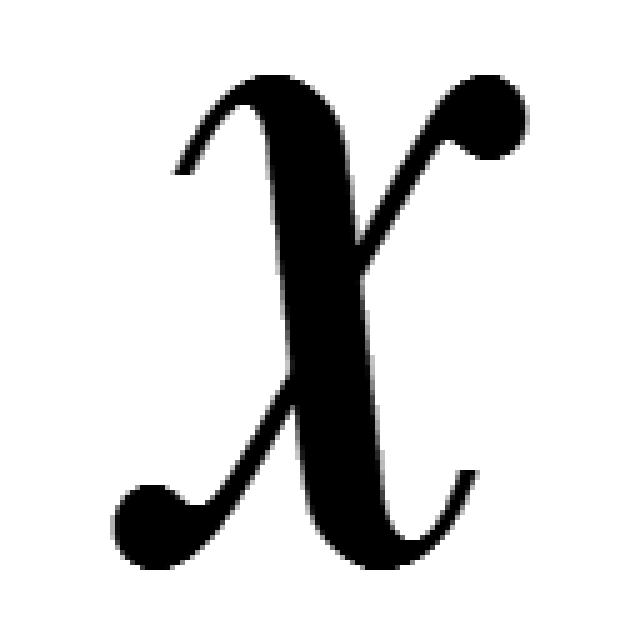X: (105, 65, 530, 575)
